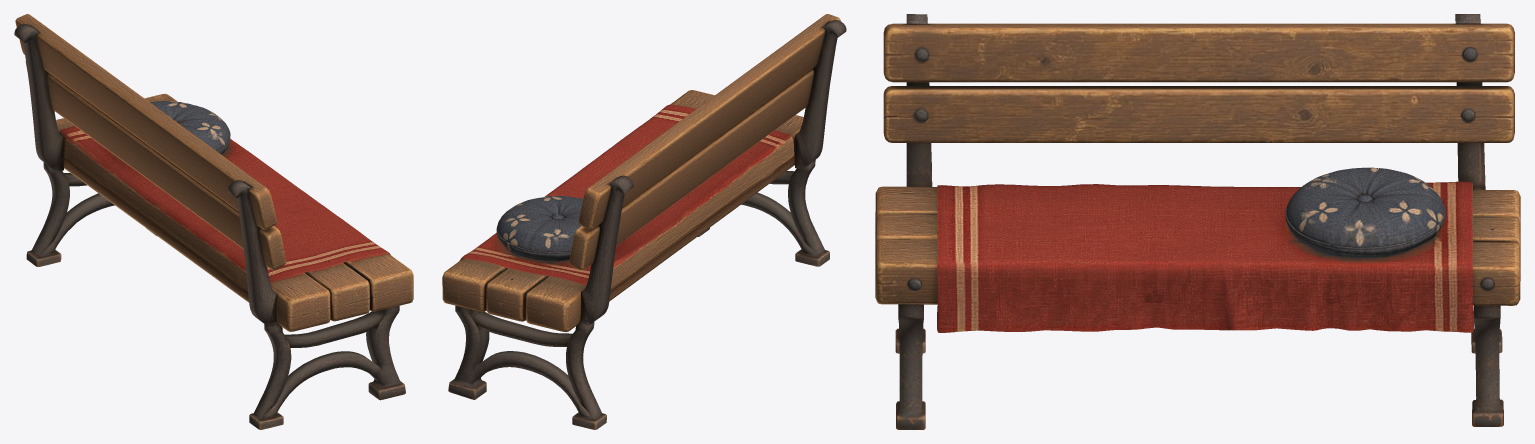
Rendered from street_bench.glb.
The picture shows the model from 3 angles, left to right: view 1: azimuth 30°, elevation 25°; view 2: azimuth 150°, elevation 25°; view 3: azimuth 270°, elevation 25°; orthographic projection. The views are drawn at different scales.
Parts seen in each view (by area): view 1: tripo_node_f7028b74-0eac-49f1-83a4-32ffa4048658; view 2: tripo_node_f7028b74-0eac-49f1-83a4-32ffa4048658; view 3: tripo_node_f7028b74-0eac-49f1-83a4-32ffa4048658.
Part boxes in pixels (x1,y1,x2,y2): tripo_node_f7028b74-0eac-49f1-83a4-32ffa4048658: [14, 14, 413, 429]; tripo_node_f7028b74-0eac-49f1-83a4-32ffa4048658: [442, 14, 846, 429]; tripo_node_f7028b74-0eac-49f1-83a4-32ffa4048658: [875, 14, 1520, 429].
Size of the model in its own units: 0.4087 by 0.5396 by 0.9995.
1 material, 1 textured.
